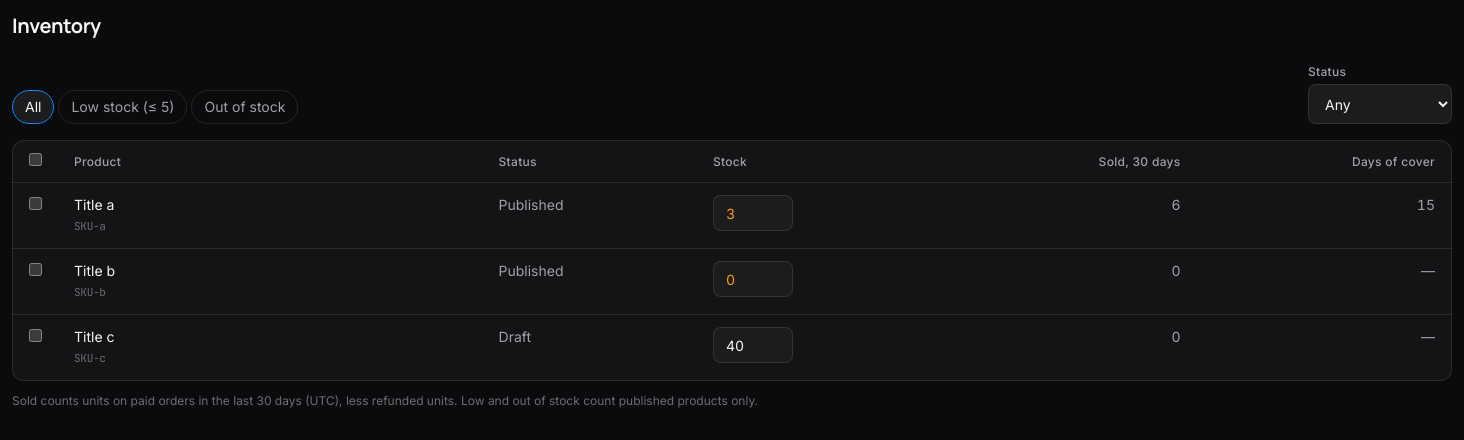
Test: the inventory page › refuses a stock that is not a whole number without sending anything
The image size is (1464, 440).
Replace the text in the field named "Stock for Title a" with "2.5". click: (753, 213)
box: [713,195,793,231]
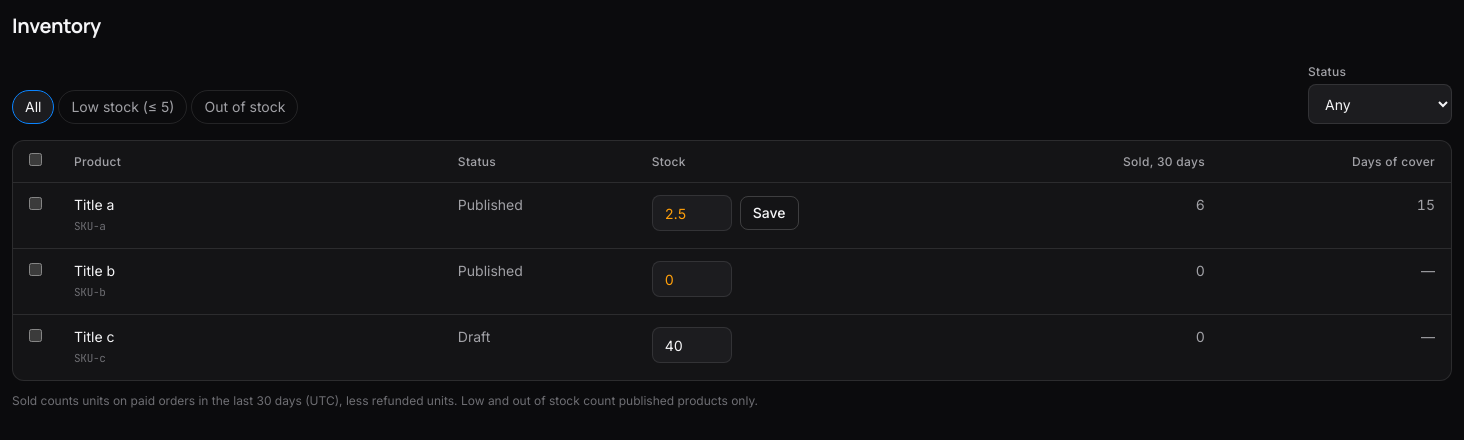
Submit the form "Save", box [652,195,798,231]
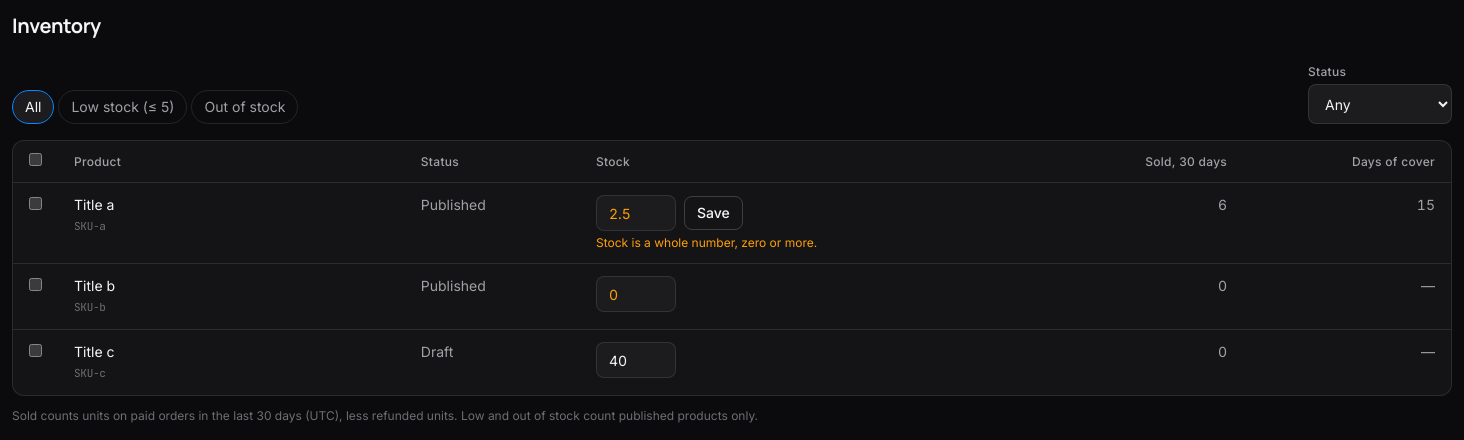
Expected: the text "Stock is a whole number" is shown, [596,235,817,250]
